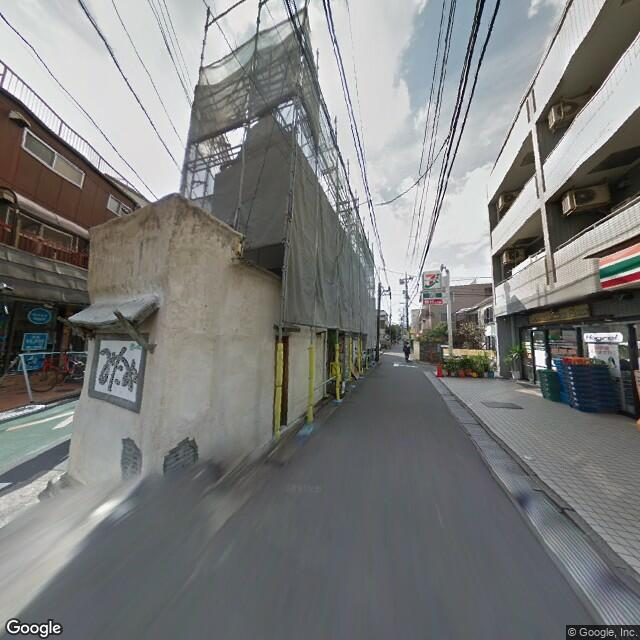7-eleven: (598, 237, 639, 293), (421, 269, 444, 292)
